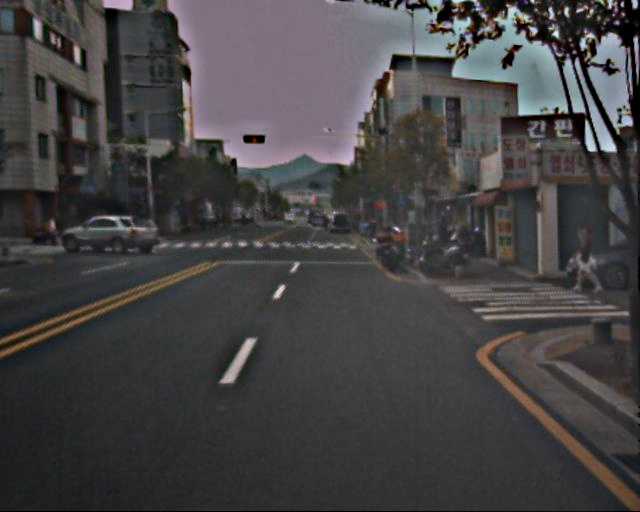person: (567, 225, 600, 299)
